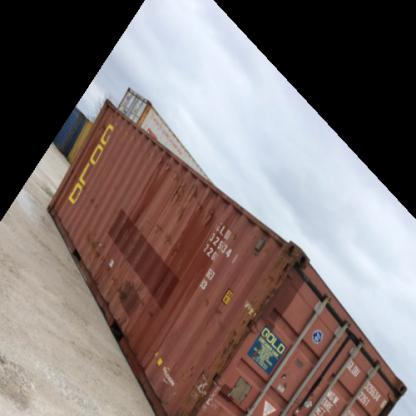Damage: (155, 151, 221, 232), (254, 249, 300, 300), (78, 223, 121, 276), (178, 357, 224, 399), (217, 320, 265, 352), (78, 184, 105, 214), (198, 288, 226, 315), (139, 296, 165, 322), (117, 279, 141, 299)
